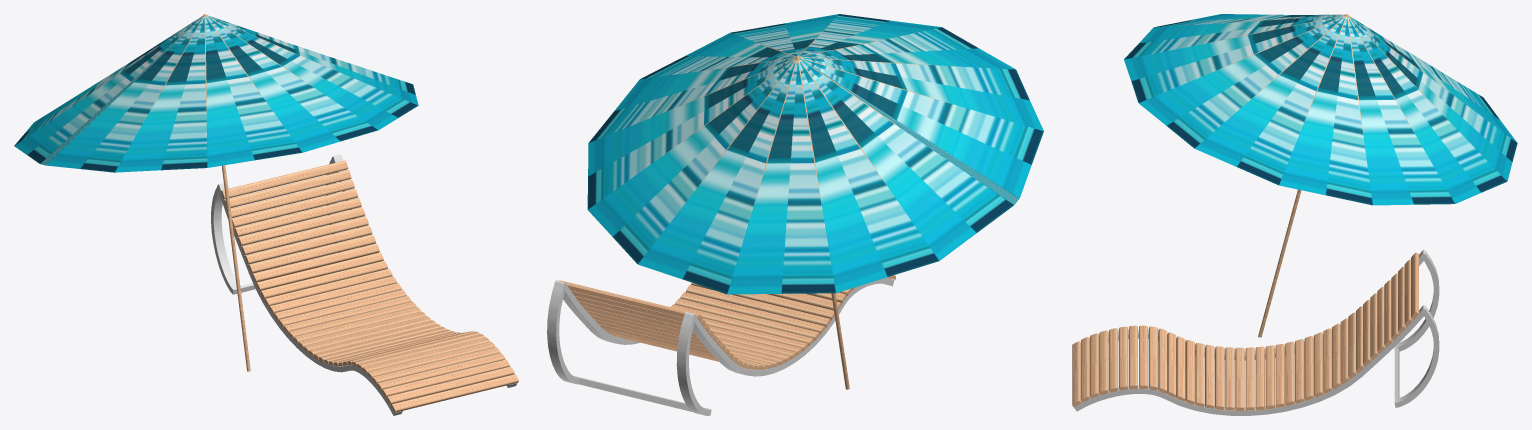
Rendered from beach-chair-2.glb.
The picture shows the model from 3 angles, left to right: view 1: azimuth 30°, elevation 25°; view 2: azimuth 150°, elevation 25°; view 3: azimuth 270°, elevation 25°; orthographic projection. The views are drawn at different scales.
Visible parts, largest first — view 1: Cube.003_6, Cube_1, Cube.002_2, Circle_3, Cube.001_5; view 2: Cube.003_6, Cube_1, Cube.002_2, Cube.001_5, Circle_3; view 3: Cube.003_6, Cube_1, Cube.002_2, Cube.001_5, Circle_3.
Boxes of the visible parts, bbox=[...] form: Cube.003_6: bbox=[14, 15, 418, 172]; Cube_1: bbox=[220, 160, 518, 412]; Cube.002_2: bbox=[211, 154, 517, 415]; Circle_3: bbox=[203, 14, 250, 371]; Cube.001_5: bbox=[107, 15, 332, 115]; Cube.003_6: bbox=[587, 14, 1043, 294]; Cube_1: bbox=[559, 275, 895, 369]; Cube.002_2: bbox=[547, 278, 894, 415]; Cube.001_5: bbox=[663, 30, 946, 207]; Circle_3: bbox=[796, 56, 849, 389]; Cube.003_6: bbox=[1124, 14, 1517, 205]; Cube_1: bbox=[1072, 252, 1418, 410]; Cube.002_2: bbox=[1074, 250, 1439, 415]; Cube.001_5: bbox=[1219, 14, 1444, 136]; Circle_3: bbox=[1258, 14, 1348, 337].
Size of the model in its own units: 2.21 by 1.95 by 2.43.
Materials: 3 (2 with a texture image).
